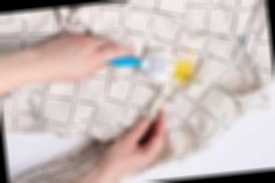mustard: (173, 61, 193, 84)
